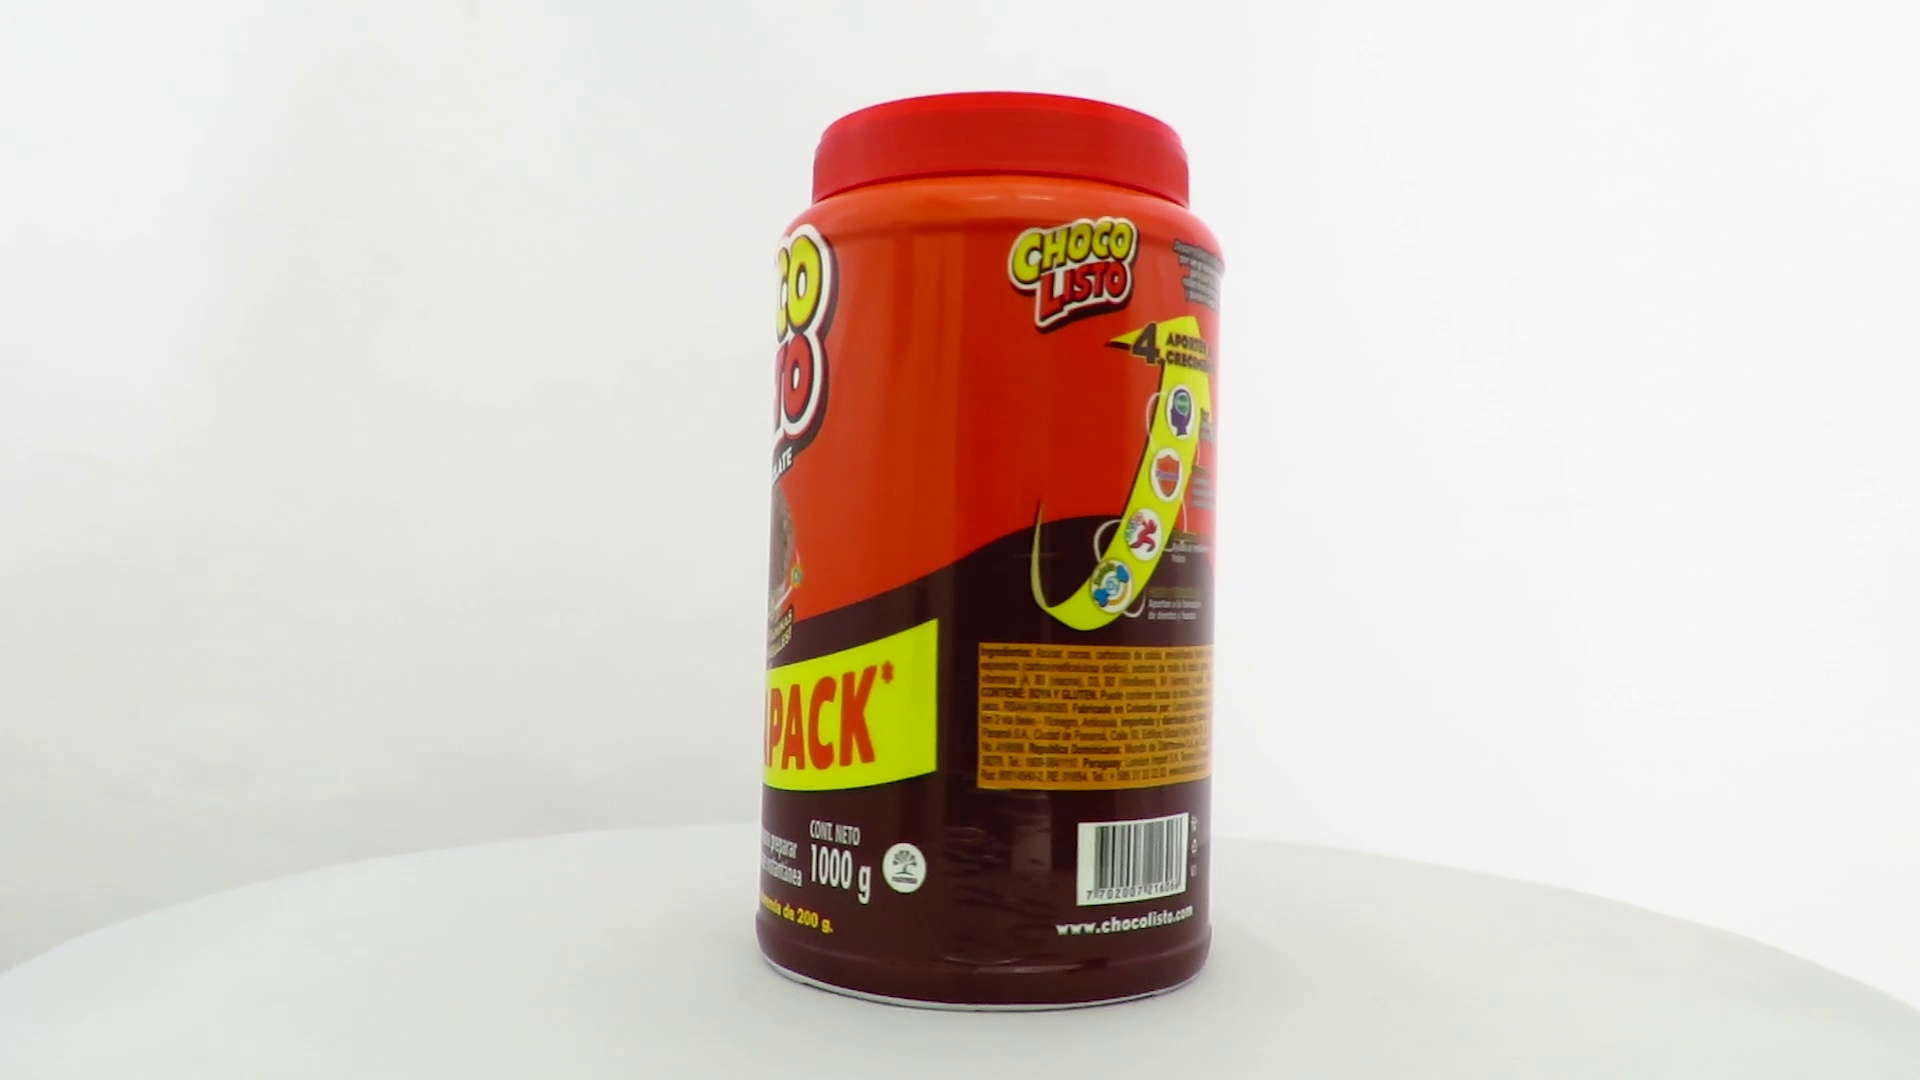COL0170103TRR00100: (750, 86, 1226, 1019)
